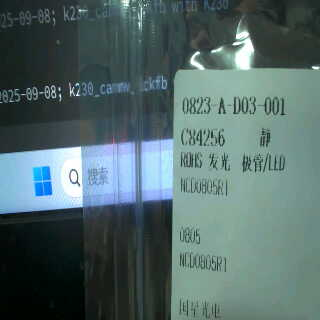LED: (205, 150, 294, 170)
